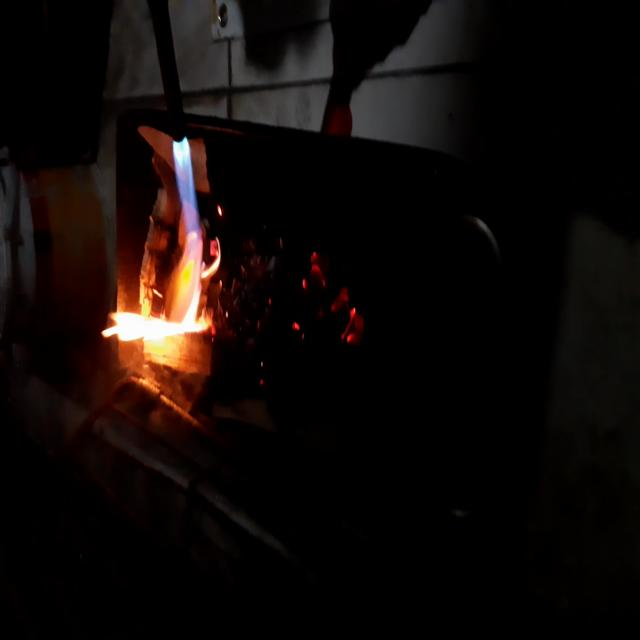Fire: (114, 127, 223, 383), (287, 252, 375, 374)
